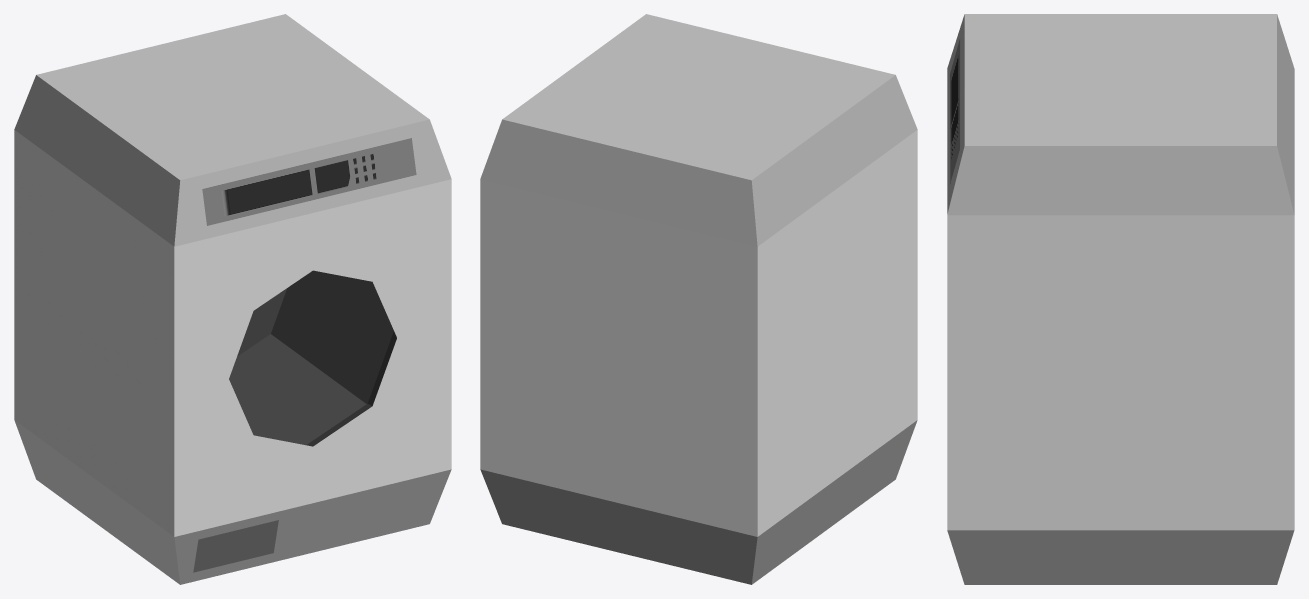
The model's file is Itr_Washingmachine_Body_01.FBX.
The picture shows the model from 3 angles, left to right: view 1: azimuth 30°, elevation 25°; view 2: azimuth 150°, elevation 25°; view 3: azimuth 270°, elevation 25°; orthographic projection. The views are drawn at different scales.
Visible parts, largest first — view 1: Itr_Washingmachine_Body_01; view 2: Itr_Washingmachine_Body_01; view 3: Itr_Washingmachine_Body_01.
Boxes of the visible parts, box(x1,y1,x2,y2) form: Itr_Washingmachine_Body_01: box(14, 14, 451, 584); Itr_Washingmachine_Body_01: box(480, 14, 917, 584); Itr_Washingmachine_Body_01: box(947, 14, 1294, 584).
Bounding box in the file's own units: 39.37 × 54.89 × 39.45.
